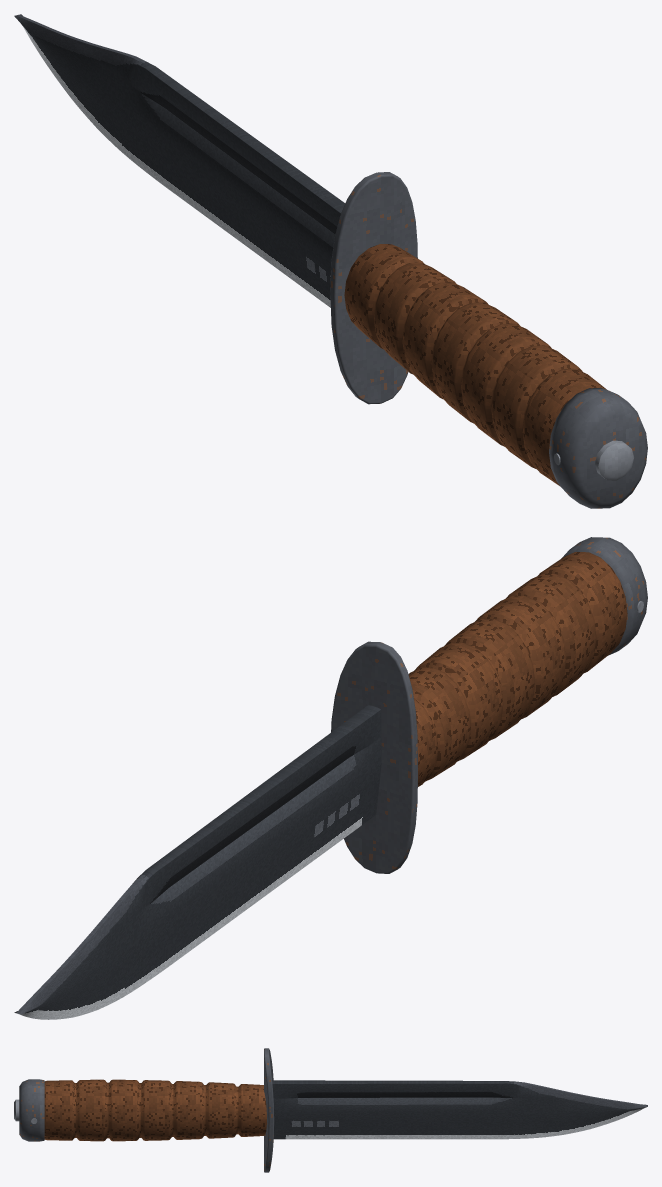
File: w_knife.glb
3 views of the same model, one above another, from view 1: azimuth 30°, elevation 25°; view 2: azimuth 150°, elevation 25°; view 3: azimuth 270°, elevation 25° (orthographic). The views are drawn at different scales.
Parts seen in each view (by area): view 1: knife_grip_wzA, knife_blade_wzB, knife_pins_wzN; view 2: knife_grip_wzA, knife_blade_wzB; view 3: knife_blade_wzB, knife_grip_wzA.
Boxes of the visible parts, <box> form: knife_grip_wzA: <box>330,172,647,508</box>; knife_blade_wzB: <box>14,14,345,307</box>; knife_pins_wzN: <box>554,440,633,480</box>; knife_grip_wzA: <box>331,537,647,873</box>; knife_blade_wzB: <box>14,705,381,1019</box>; knife_blade_wzB: <box>272,1080,647,1139</box>; knife_grip_wzA: <box>19,1048,274,1172</box>.
Bounding box in the file's own units: 0.0245 × 0.0635 × 0.3016.
Materials: 4 (4 with a texture image).
